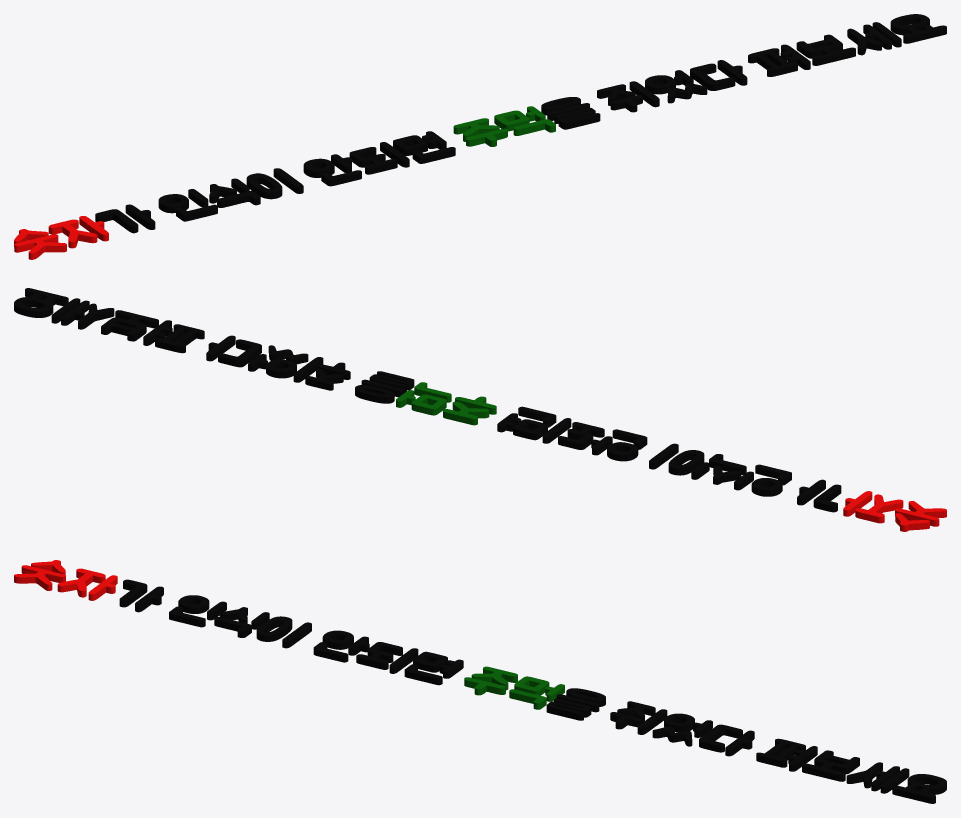
File: Info.fbx
3 renders of one model, top to bottom at view 1: azimuth 30°, elevation 25°; view 2: azimuth 150°, elevation 25°; view 3: azimuth 330°, elevation 25°, orthographic.
Visible parts, largest first — view 1: Text; view 2: Text; view 3: Text.
Boxes of the visible parts, x1=… form: Text: x1=14, y1=14, x2=946, y2=259; Text: x1=14, y1=288, x2=946, y2=531; Text: x1=14, y1=560, x2=946, y2=803.
Size of the model in its own units: 1505 by 10 by 78.04.
